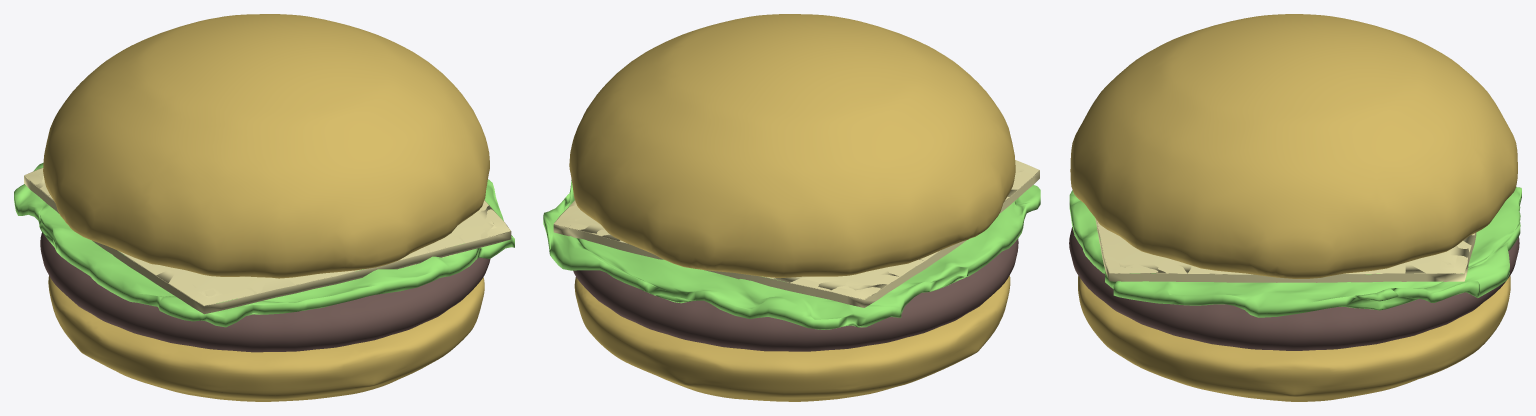
Rendered from burger.fbx.
3 renders of one model, left to right at view 1: azimuth 30°, elevation 25°; view 2: azimuth 150°, elevation 25°; view 3: azimuth 270°, elevation 25°, orthographic.
Visible parts, largest first — view 1: Sphere, Cylinder, Cylinder.001, Plane, Plane.001; view 2: Sphere, Cylinder, Plane, Cylinder.001, Plane.001; view 3: Sphere, Cylinder, Plane, Cylinder.001, Plane.001.
Part boxes in pixels (x1,y1,x2,y2): Sphere: (43,14,489,278); Cylinder: (48,276,484,401); Cylinder.001: (40,232,490,352); Plane: (14,162,514,327); Plane.001: (24,168,511,314); Sphere: (569,14,1015,278); Cylinder: (574,275,1010,401); Plane: (543,179,1040,329); Cylinder.001: (573,238,1018,351); Plane.001: (553,160,1039,307); Sphere: (1070,14,1517,278); Cylinder: (1078,276,1510,401); Plane: (1069,187,1521,317); Cylinder.001: (1069,227,1519,350); Plane.001: (1095,218,1476,282).
Bounding box in the file's own units: 177 × 128 × 175.
